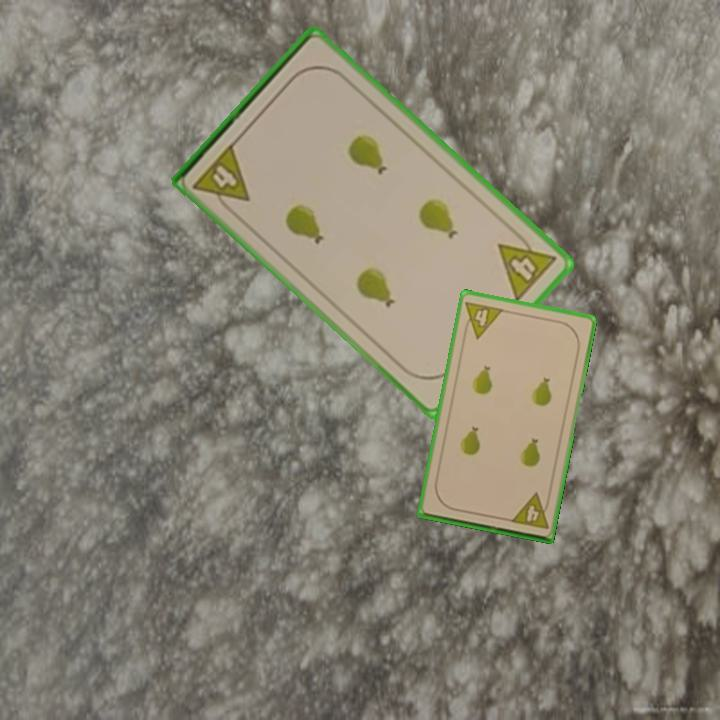4p: (494, 225, 559, 306), (189, 139, 253, 218), (459, 298, 506, 341), (507, 490, 553, 532)
